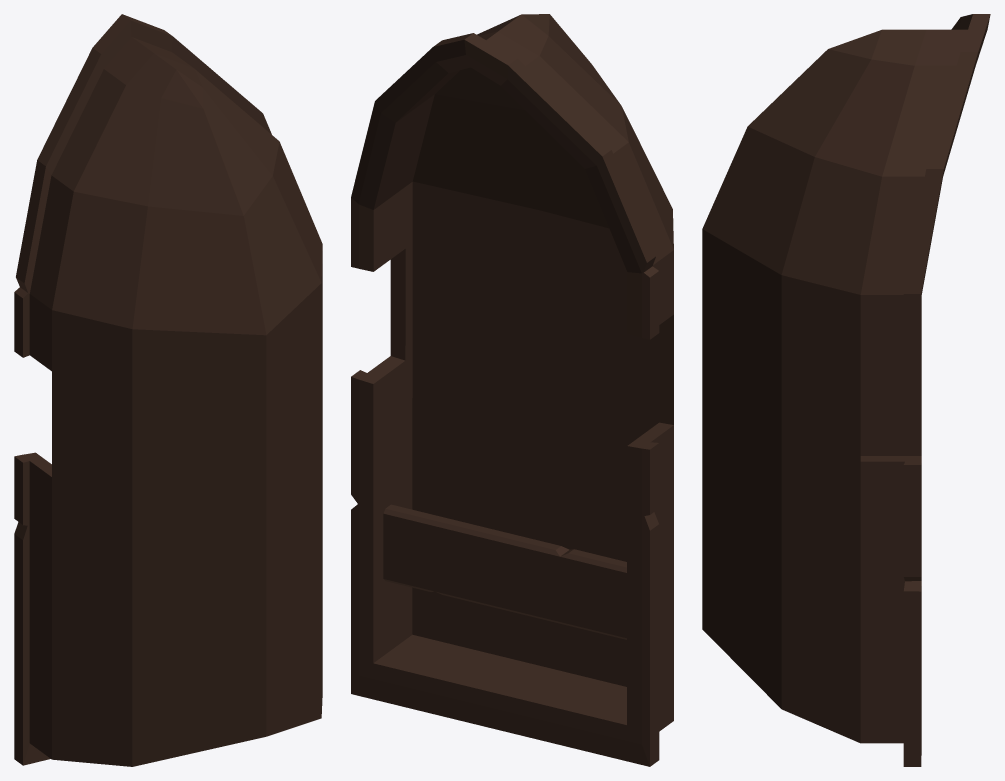
The model's file is Boat(Basic) - Placeholder.fbx.
3 views of the same model, side by side, from view 1: azimuth 30°, elevation 25°; view 2: azimuth 150°, elevation 25°; view 3: azimuth 270°, elevation 25° (orthographic). The views are drawn at different scales.
Visible parts, largest first — view 1: Cube; view 2: Cube; view 3: Cube.
Boxes of the visible parts, x1,y1,x2,y2 form: Cube: (14,14,322,766); Cube: (351,14,673,766); Cube: (702,14,990,766).
Bounding box in the file's own units: 513 × 1176 × 450.
